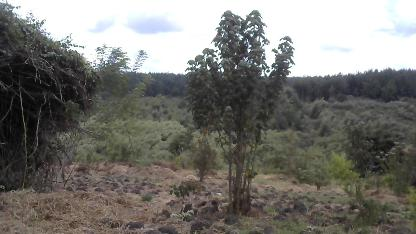tree: (182, 8, 296, 219)
